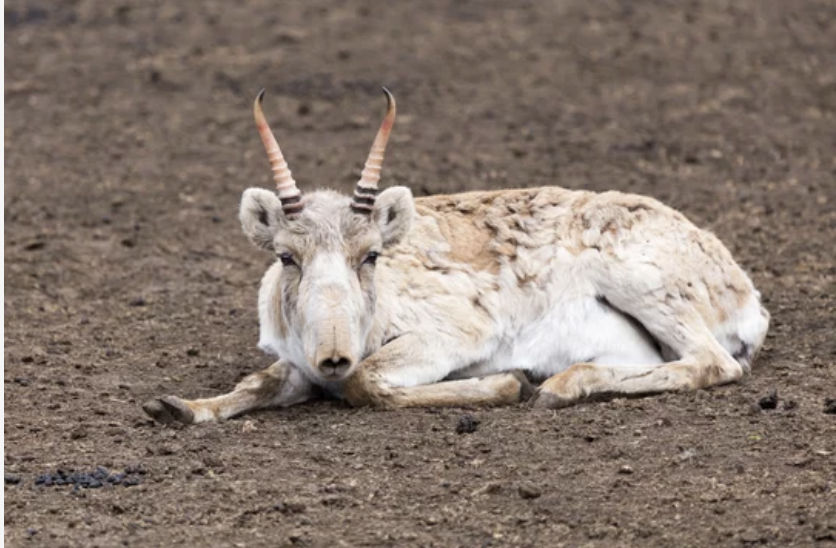saiga: (88, 72, 780, 427)
